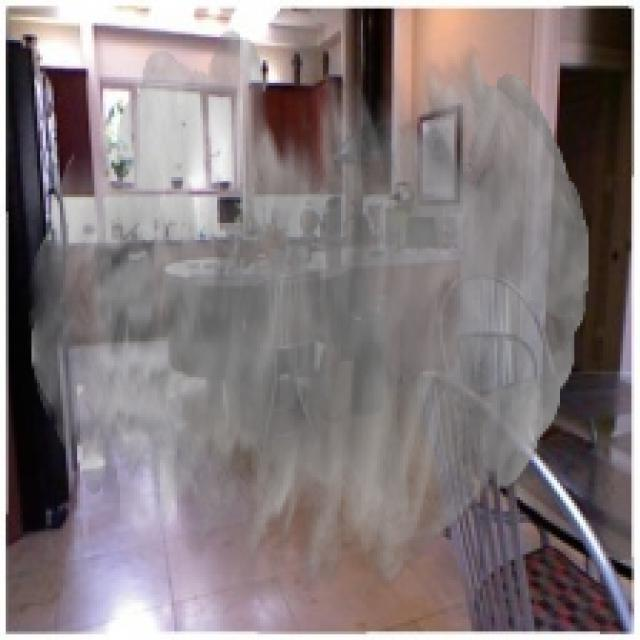Smoke: (29, 29, 588, 592)
